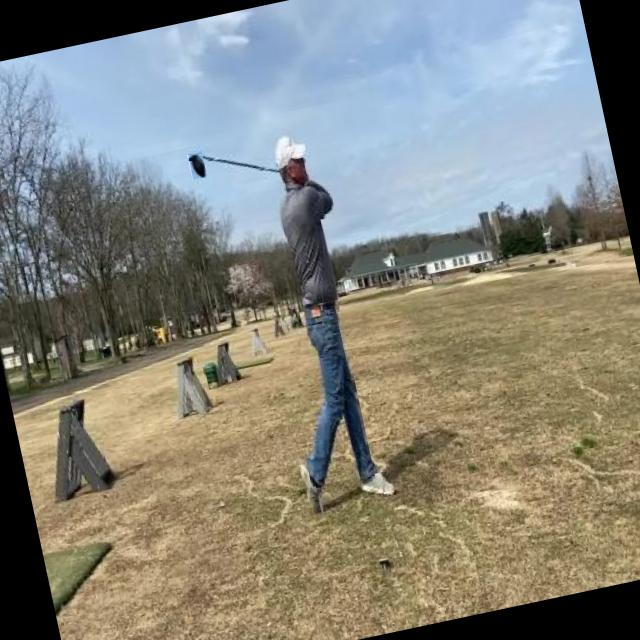club head: (186, 151, 206, 180)
